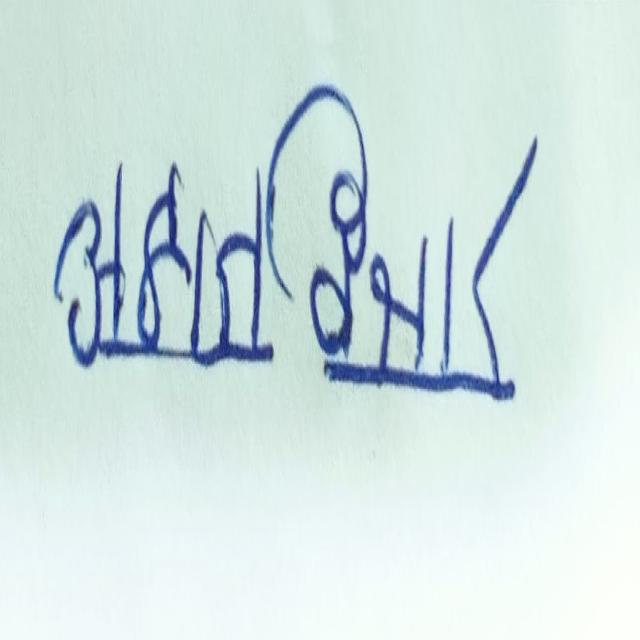signature: (45, 70, 548, 420)
